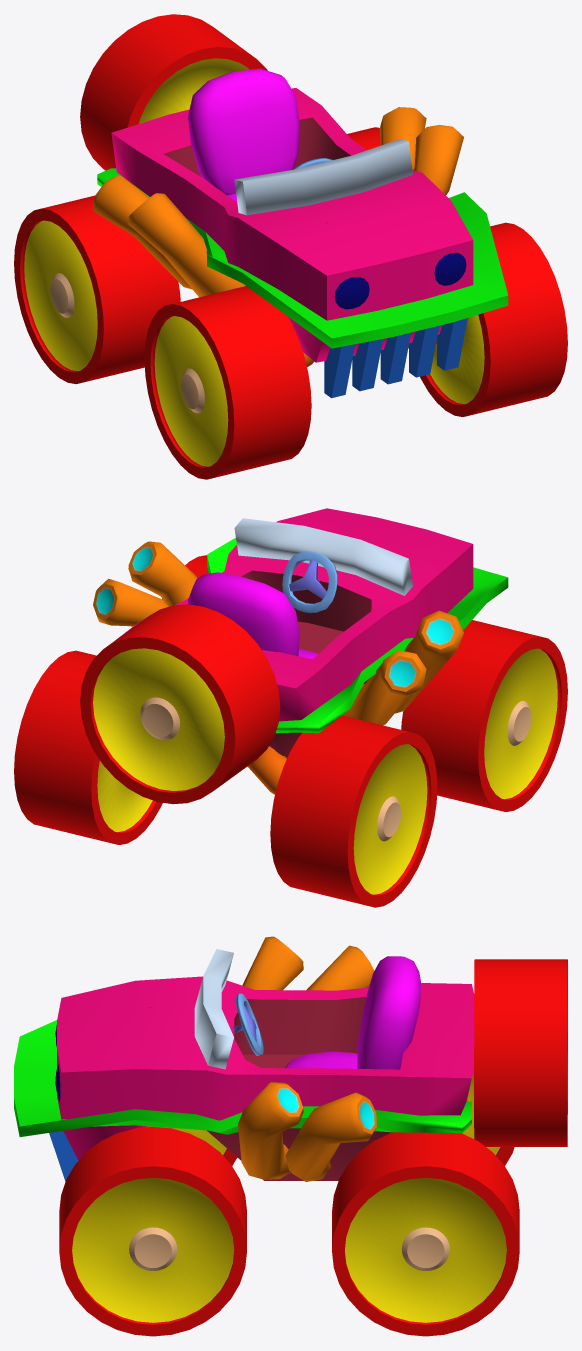
File: Jeepkart1.fbx
3 views of the same model, one above another, from view 1: azimuth 30°, elevation 25°; view 2: azimuth 150°, elevation 25°; view 3: azimuth 270°, elevation 25° (orthographic). The views are drawn at different scales.
Visible parts, largest first — view 1: Roda, body1, Roda1, Aksesoris Roda, Knalpot, Seat, Body2, body1.001, Gigi, Spotlight; view 2: Roda1, Aksesoris Roda, Roda, body1, Knalpot, body1.001, Seat, Body2, setir, Sambungan Roda, Base Body; view 3: body1, Roda, Roda1, Aksesoris Roda, Knalpot, Body2, Seat, body1.001, Base Body, setir, Gigi.
Part boxes in pixels (<box>): Roda: <box>144,222,567,479</box>; body1: <box>111,88,473,362</box>; Roda1: <box>14,127,380,383</box>; Aksesoris Roda: <box>80,14,267,170</box>; Knalpot: <box>93,107,463,297</box>; Seat: <box>188,68,299,202</box>; Body2: <box>97,168,508,348</box>; body1.001: <box>234,139,412,215</box>; Gigi: <box>324,318,467,398</box>; Spotlight: <box>334,252,466,309</box>; Roda1: <box>14,650,437,907</box>; Aksesoris Roda: <box>80,604,280,804</box>; Roda: <box>162,555,567,811</box>; body1: <box>116,508,473,721</box>; Knalpot: <box>93,541,463,725</box>; body1.001: <box>234,518,412,595</box>; Seat: <box>188,572,317,659</box>; Body2: <box>207,537,508,733</box>; setir: <box>282,551,337,613</box>; Sambungan Roda: <box>247,746,286,794</box>; Base Body: <box>269,678,369,758</box>; body1: <box>57,976,474,1160</box>; Roda: <box>59,1127,246,1336</box>; Roda1: <box>332,1069,519,1336</box>; Aksesoris Roda: <box>474,959,567,1146</box>; Knalpot: <box>238,936,376,1181</box>; Body2: <box>14,1020,471,1136</box>; Seat: <box>285,956,420,1069</box>; body1.001: <box>194,949,233,1069</box>; Base Body: <box>207,1100,467,1180</box>; setir: <box>232,993,263,1055</box>; Gigi: <box>49,1131,78,1181</box>.
Bounding box in the file's own units: 246 × 192 × 338.
Materials: 1 (1 with a texture image).
